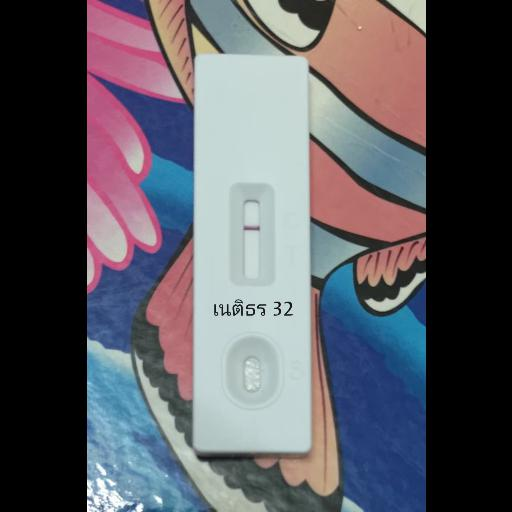Neg: (193, 54, 309, 454)
